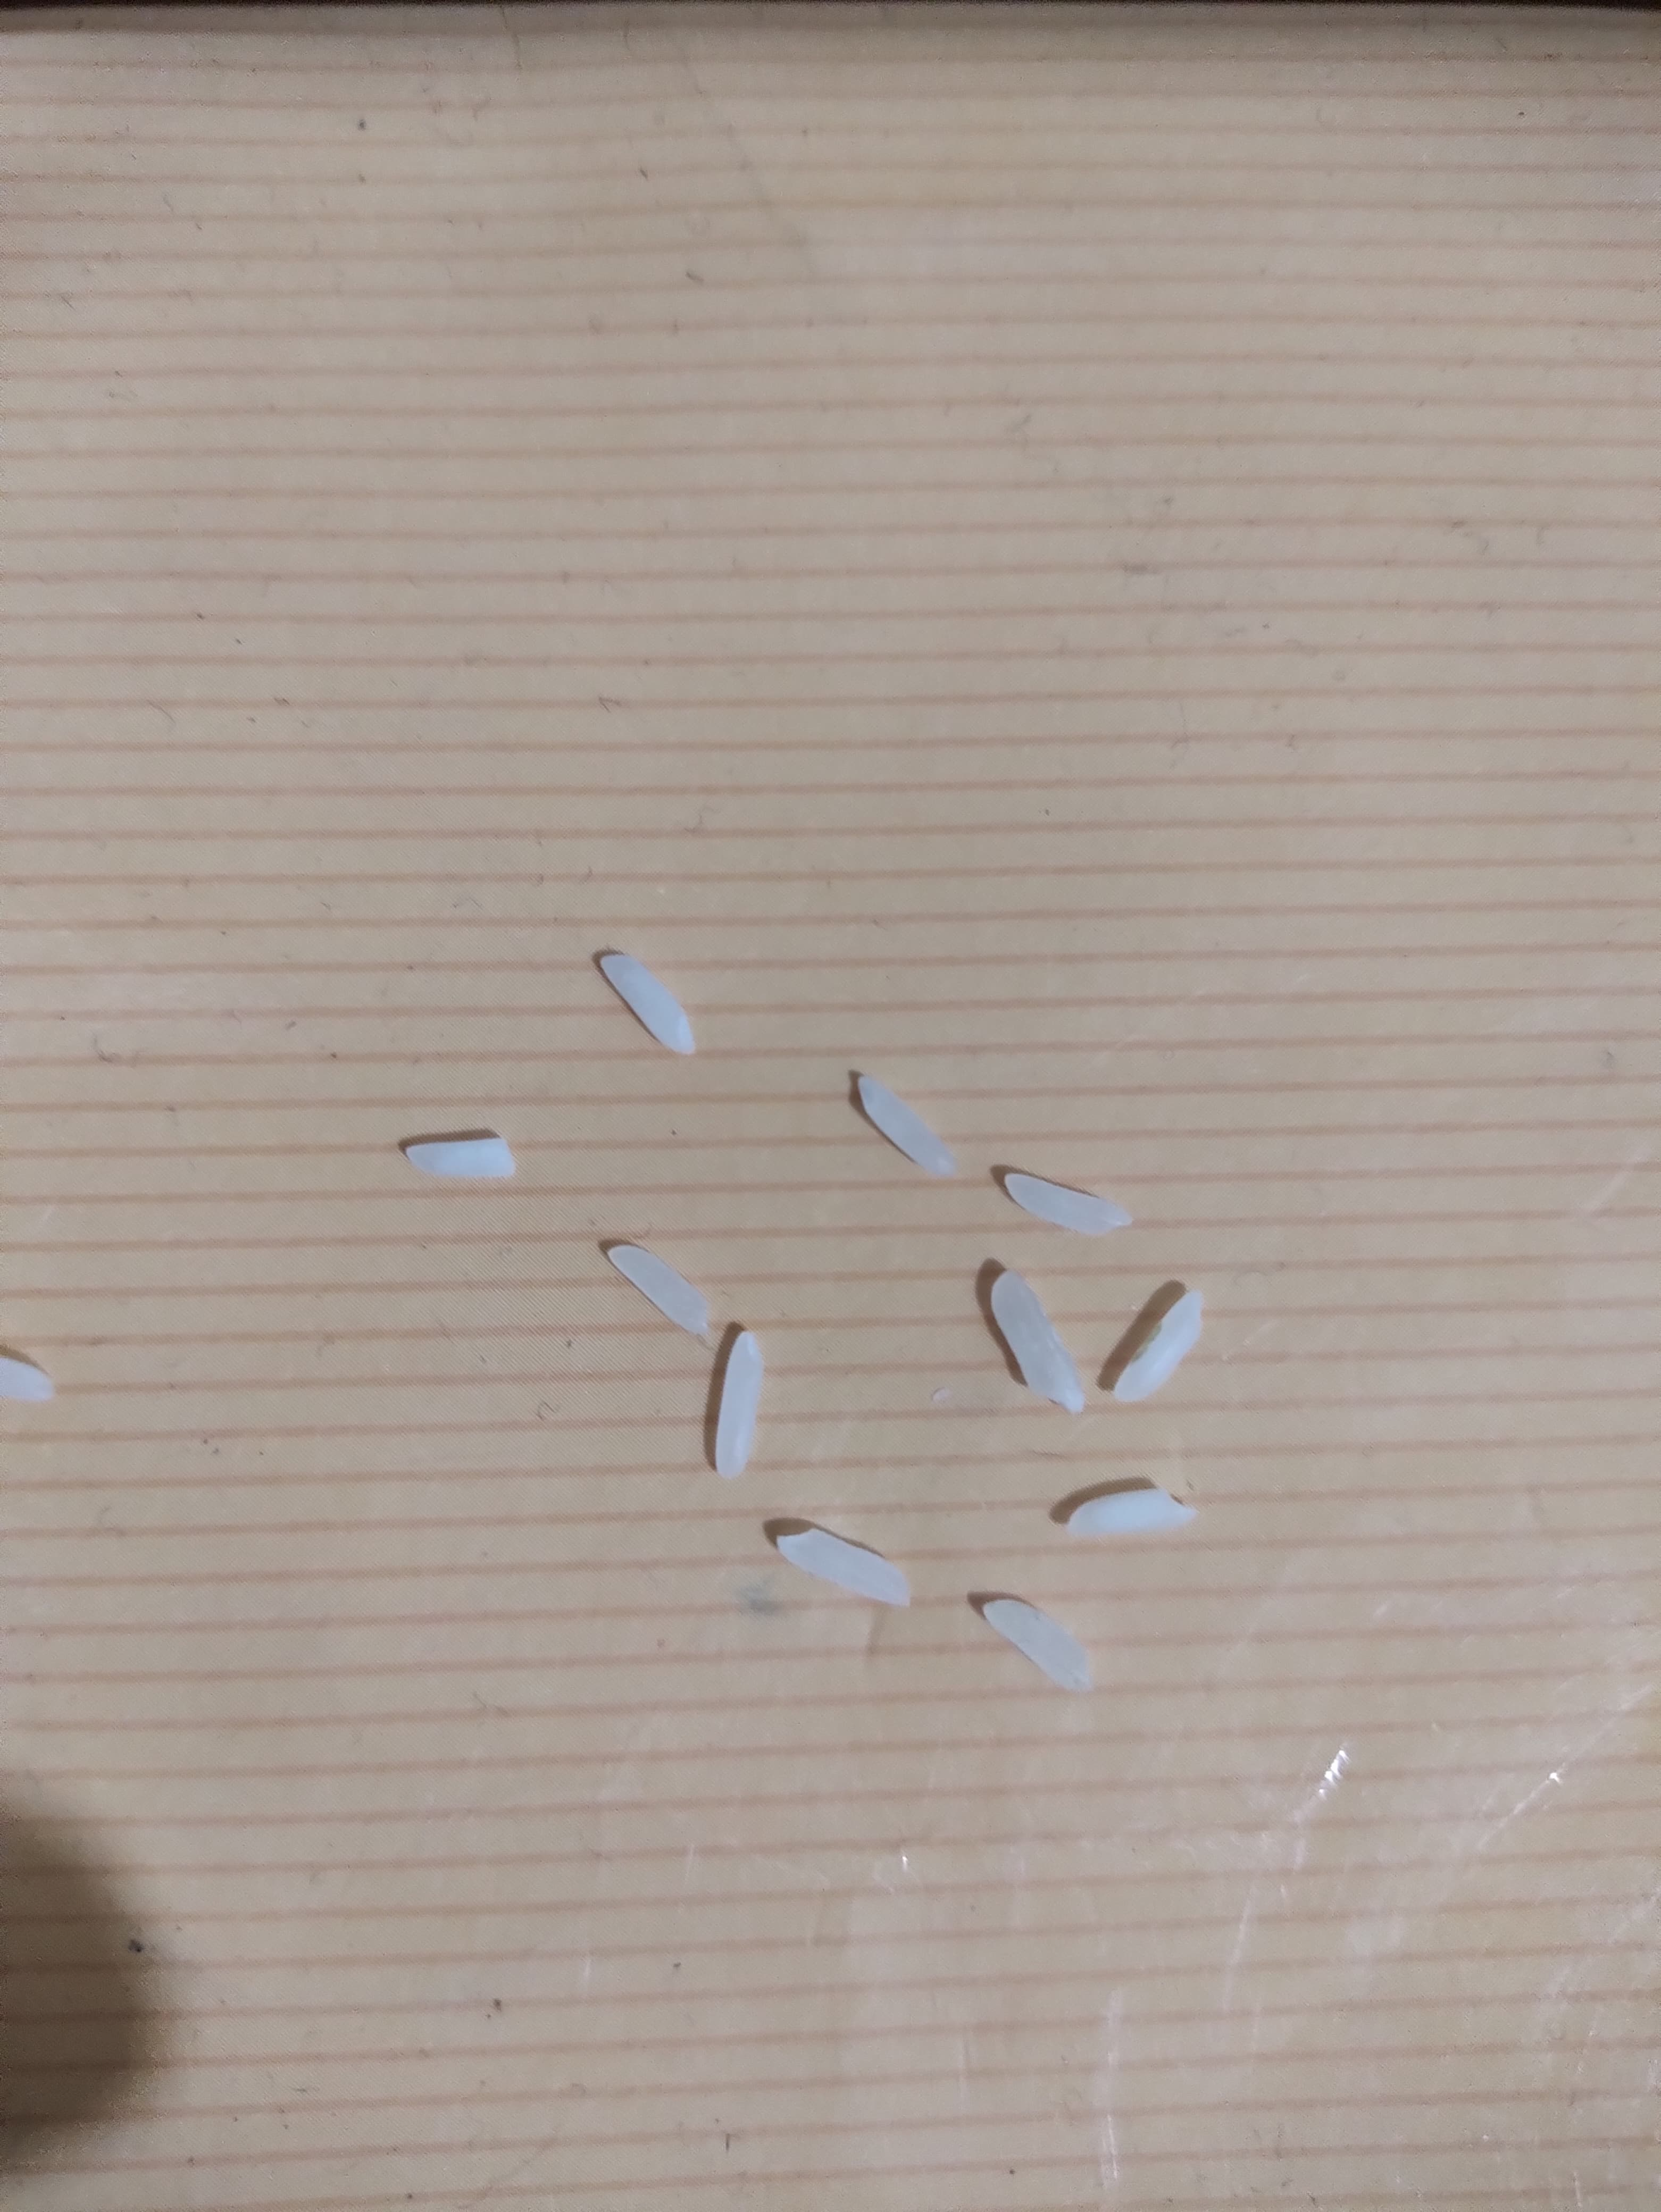broken_grain: (1059, 1474, 1218, 1563), (391, 1123, 523, 1204), (2, 1336, 65, 1423)
complete_grain: (974, 1257, 1093, 1427), (967, 1578, 1106, 1719), (767, 1512, 923, 1631), (842, 1051, 961, 1200), (1091, 1278, 1221, 1412), (991, 1149, 1159, 1251), (587, 942, 719, 1070), (591, 1229, 714, 1351), (706, 1319, 772, 1495)
